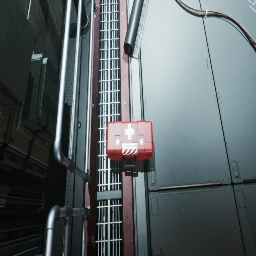FirstAidBox ,: (106, 121, 153, 169)
